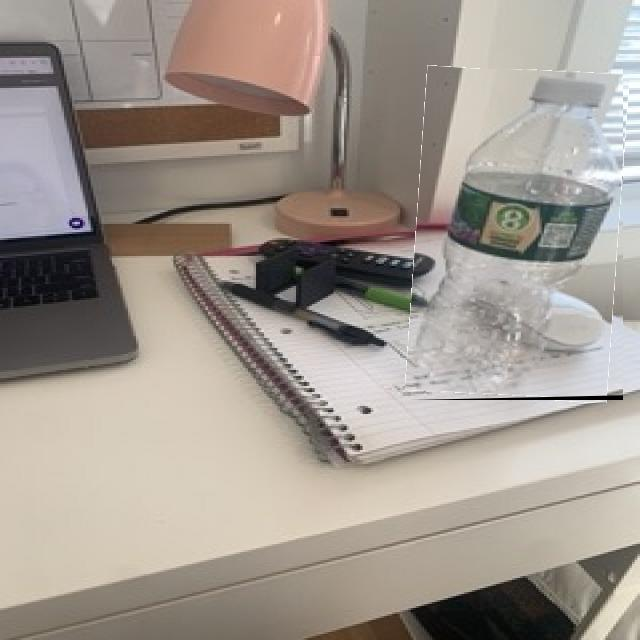water_bottle: (411, 69, 623, 400)
